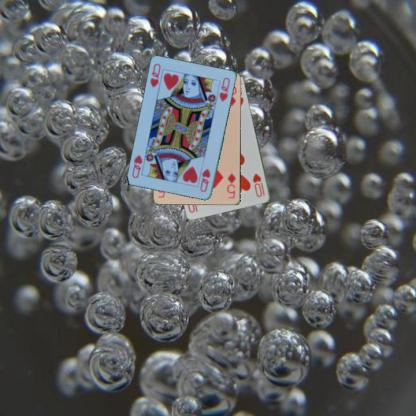10h: (250, 171, 266, 199)
5d: (224, 171, 238, 199)
Qh: (147, 60, 162, 90), (198, 166, 212, 194)
